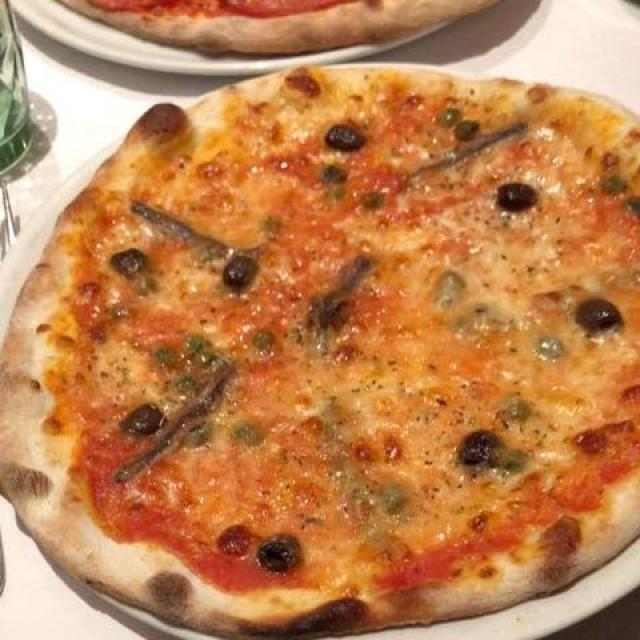Pizza: (0, 50, 640, 640)
